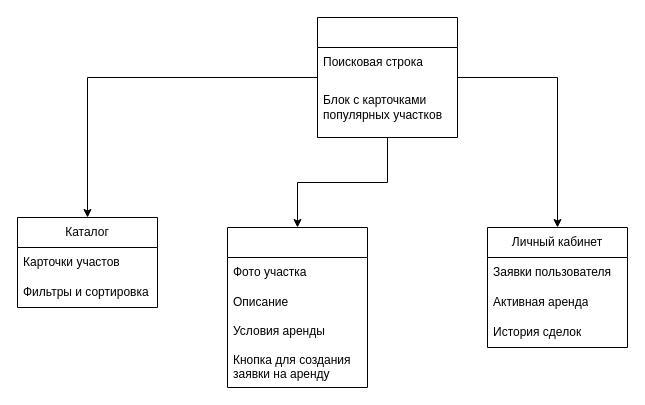
The diagram is 645 pixels wide and 405 high, and some of its shapes have lost their labels. The box of each missing label's shape, as (x1, y1, x2, y2) in pixels:
Главная страница: (316, 16, 458, 138)
Карточка участка: (226, 226, 368, 388)
